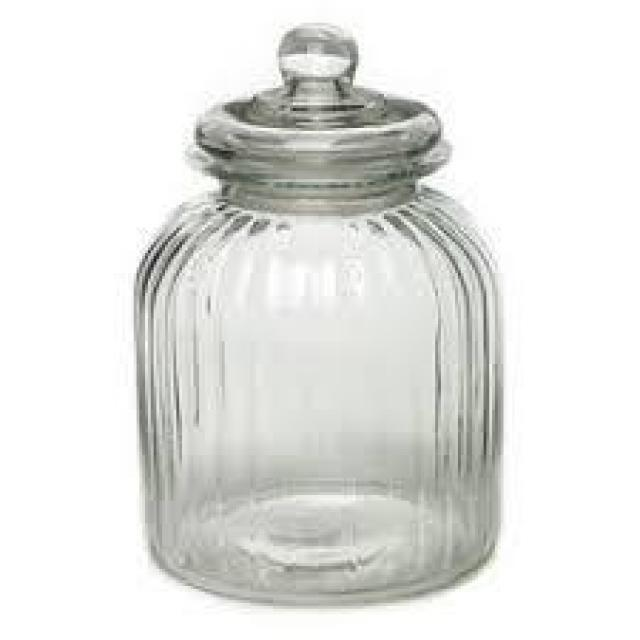glass: (128, 14, 509, 609)
